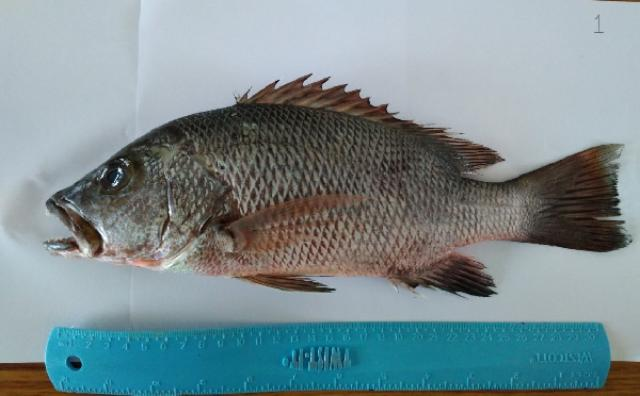Mulut: (10, 172, 112, 276)
Sirip Anal: (374, 245, 506, 309)
Sirip Dada: (190, 175, 394, 269)
Sirip Ekor: (490, 133, 638, 264)
Sirip Perut: (229, 266, 343, 308)
Sirip Punggung: (223, 65, 513, 183)
